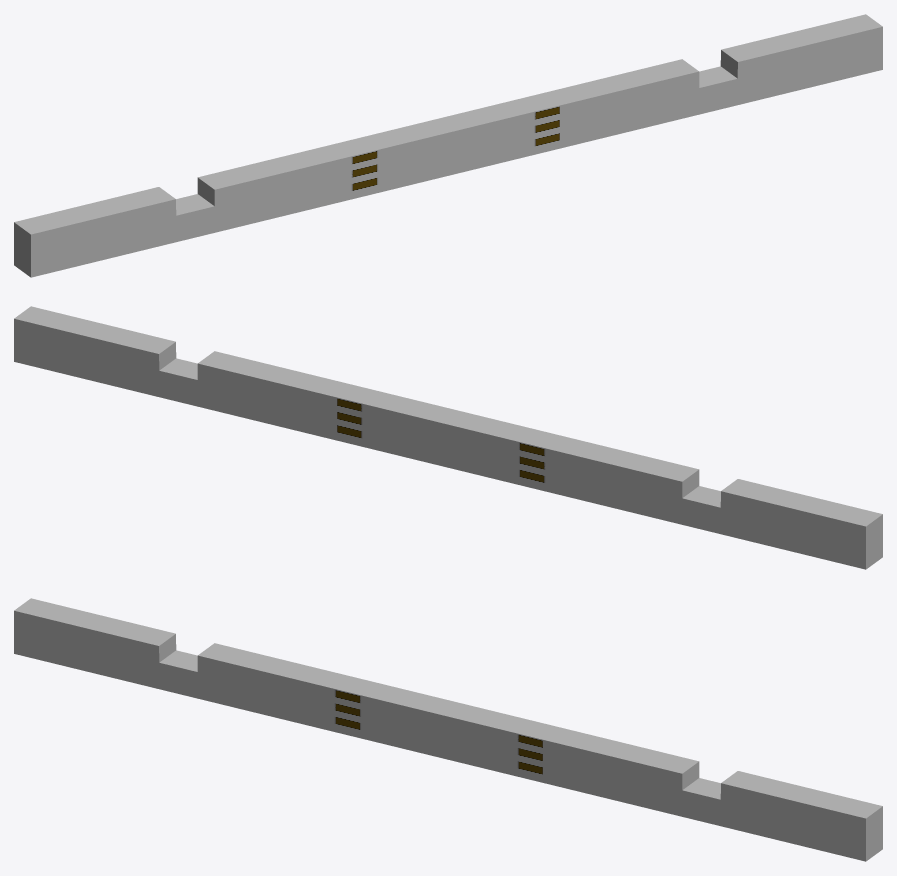
Rendered from LabSim_Model3beam1.FBX.
The picture shows the model from 3 angles, top to bottom: view 1: azimuth 30°, elevation 25°; view 2: azimuth 150°, elevation 25°; view 3: azimuth 330°, elevation 25°; orthographic projection.
Visible parts, largest first — view 1: 对象001; view 2: 对象001; view 3: 对象001.
Boxes of the visible parts, left/top/right/bottom form: 对象001: left=14, top=14, right=882, bottom=277; 对象001: left=14, top=306, right=882, bottom=569; 对象001: left=14, top=598, right=882, bottom=861.
Bounding box in the file's own units: 67.23 × 3.25 × 2.32.
Materials: 1 (1 with a texture image).
